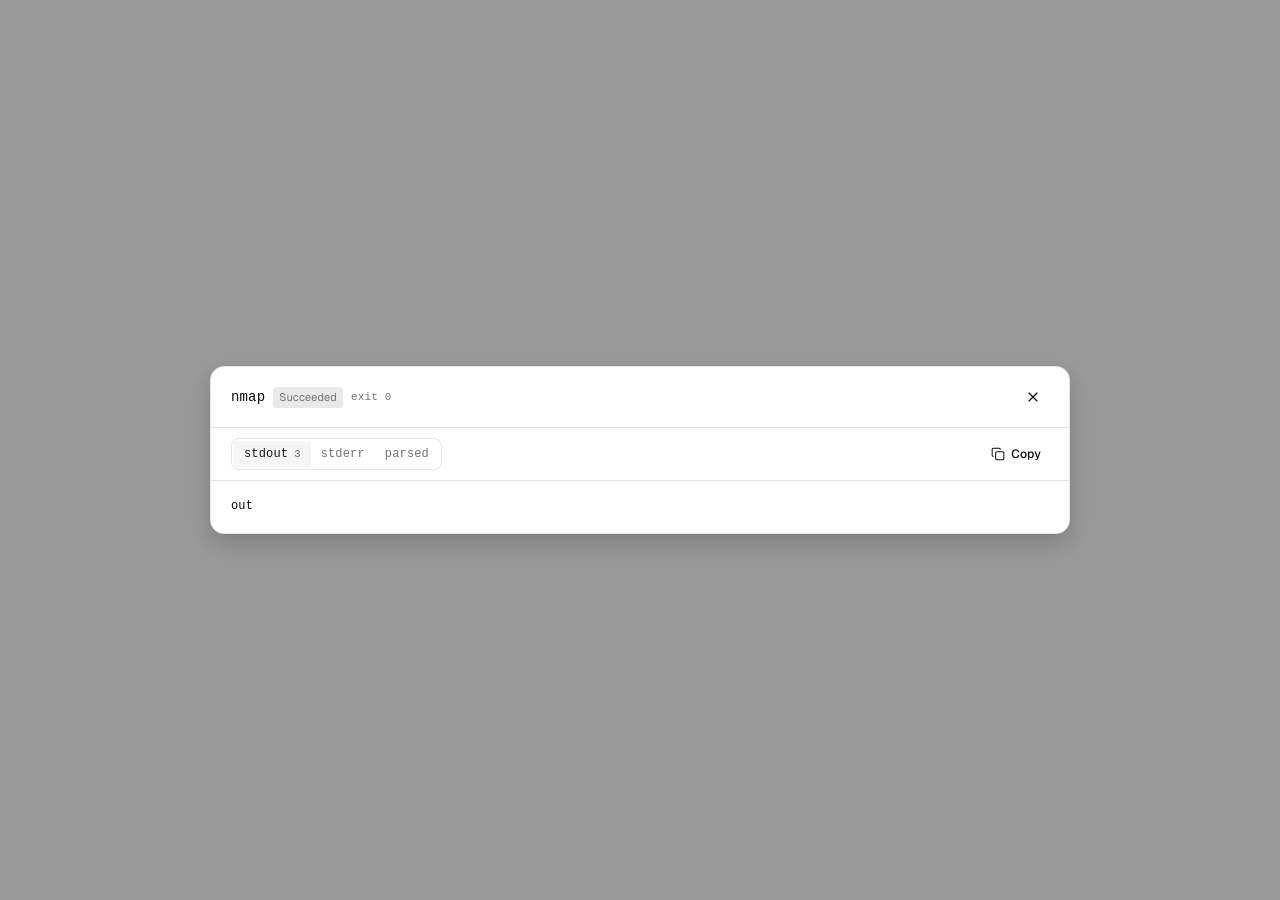
NodeOutputModal › says so when a stream is empty rather than showing a blank pane
Step 1. Click the tab "stderr" → (343, 454), box [311, 441, 375, 467]
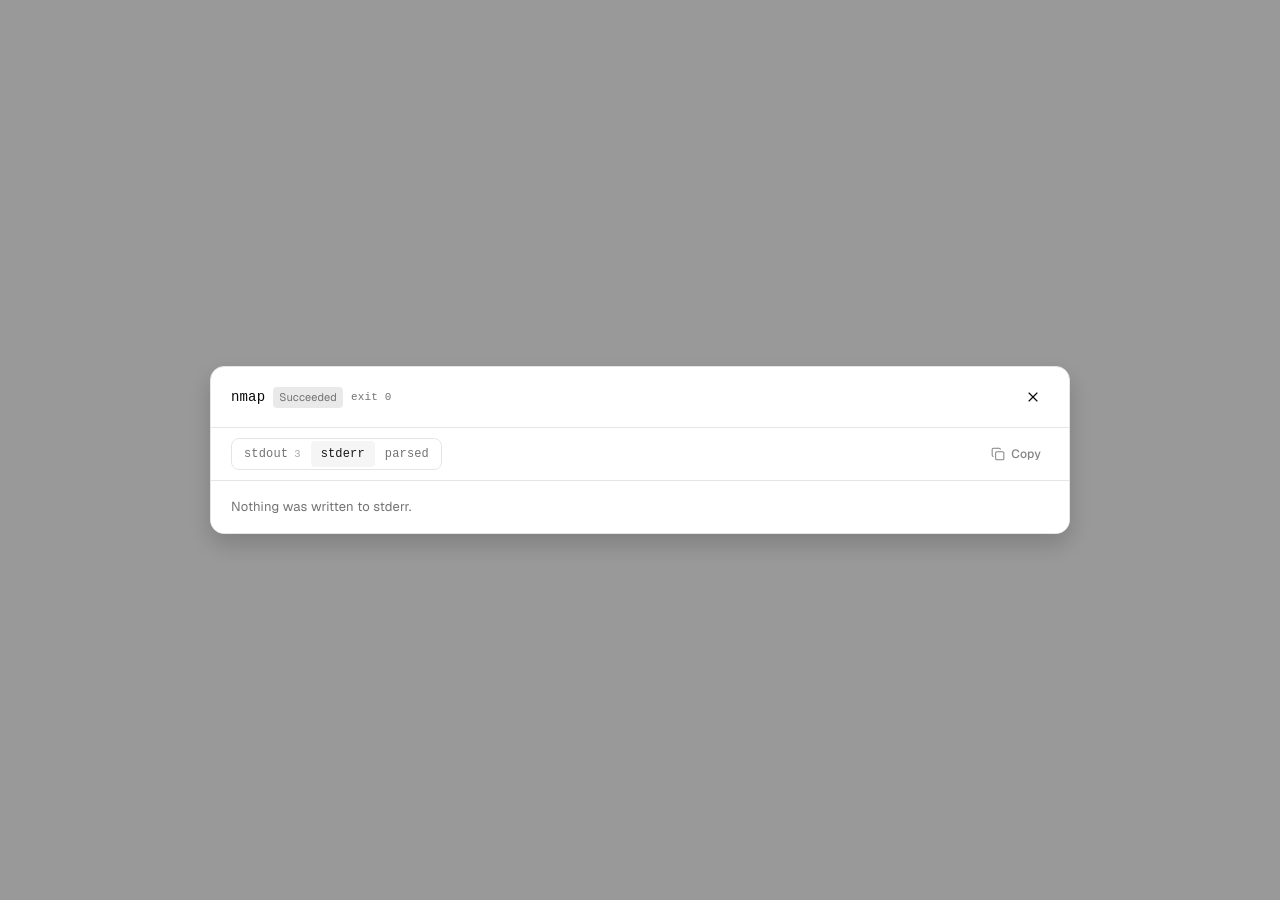
Now the text "Nothing was written to stderr." is shown, box [231, 498, 412, 515]
